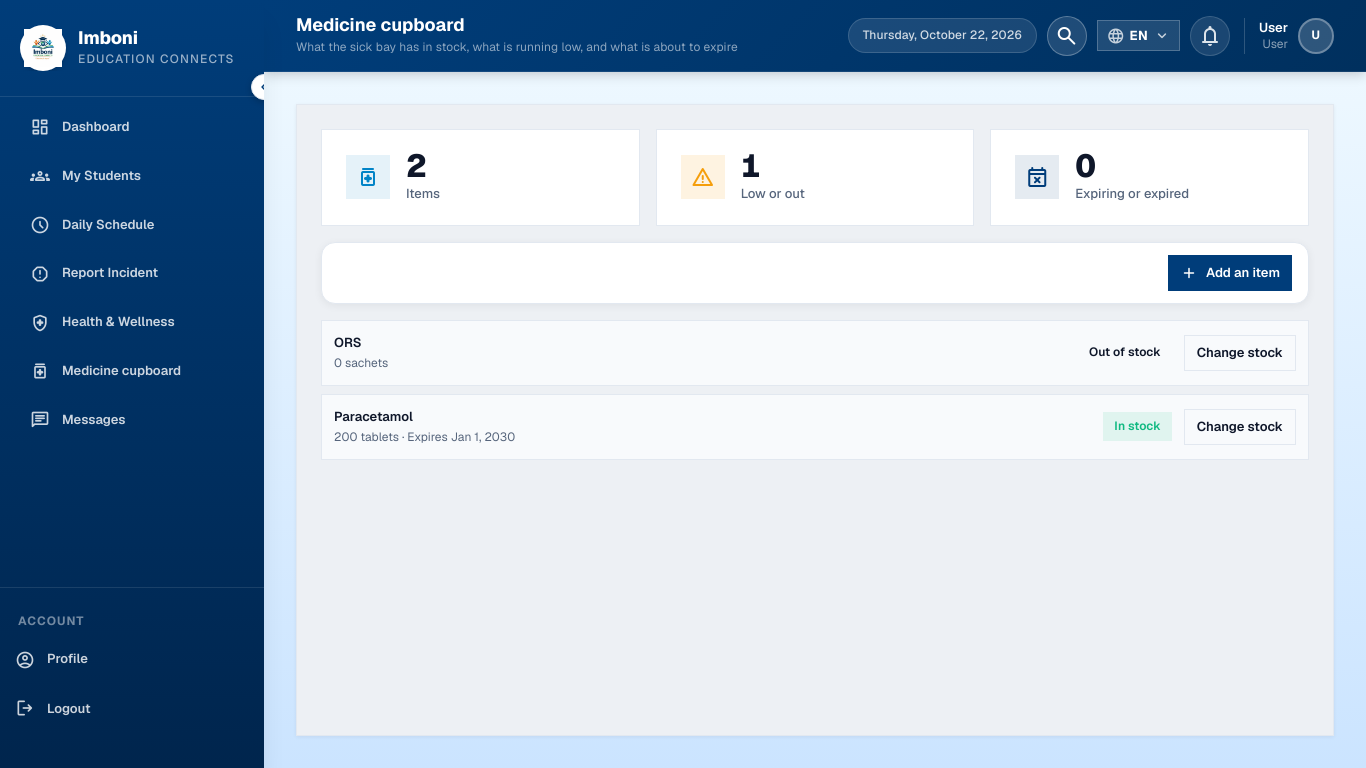
Test: MatronPharmacy › shows why the server refused a movement
Click the button "Change stock" in the row of "ORS" at (1240, 353), box [1184,335,1296,371]
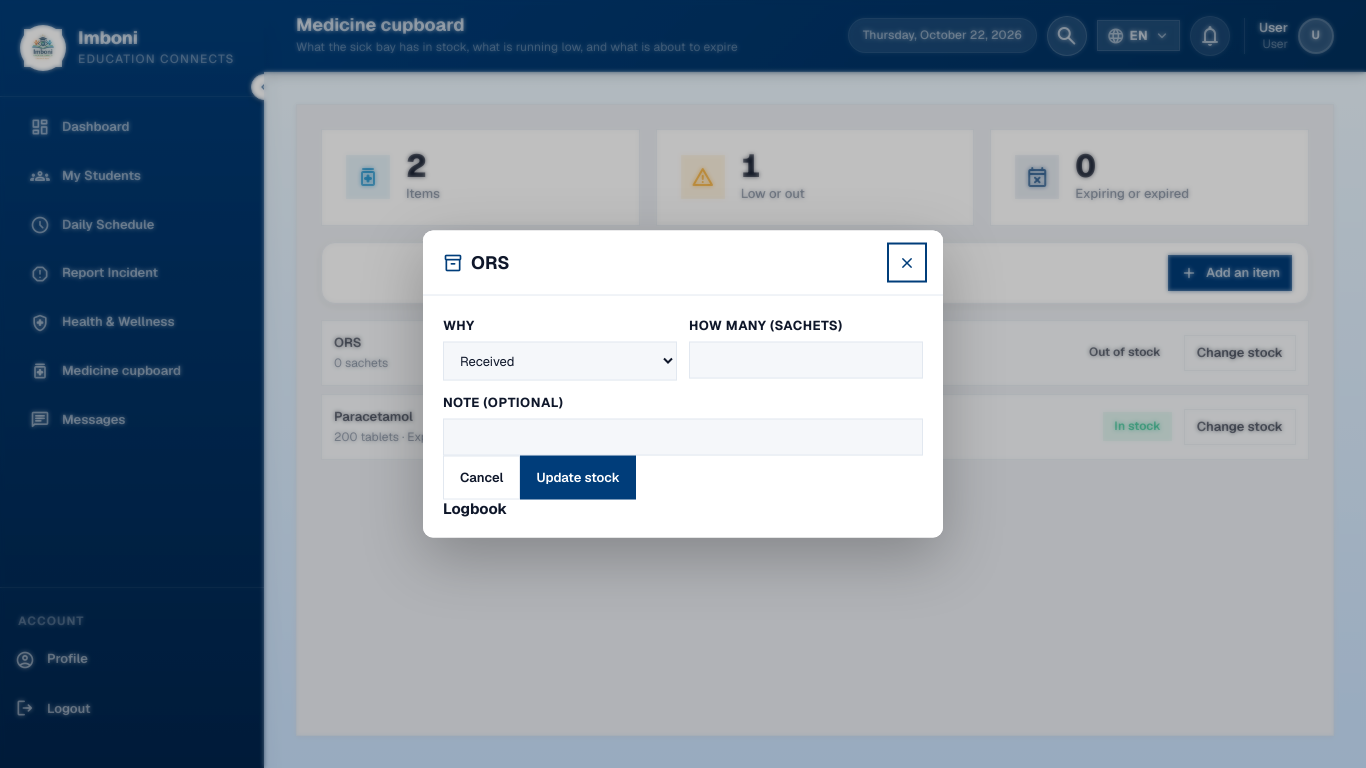
Type "5" into the number field labelled "How many (sachets)" at (806, 360), box [689,342,923,378]
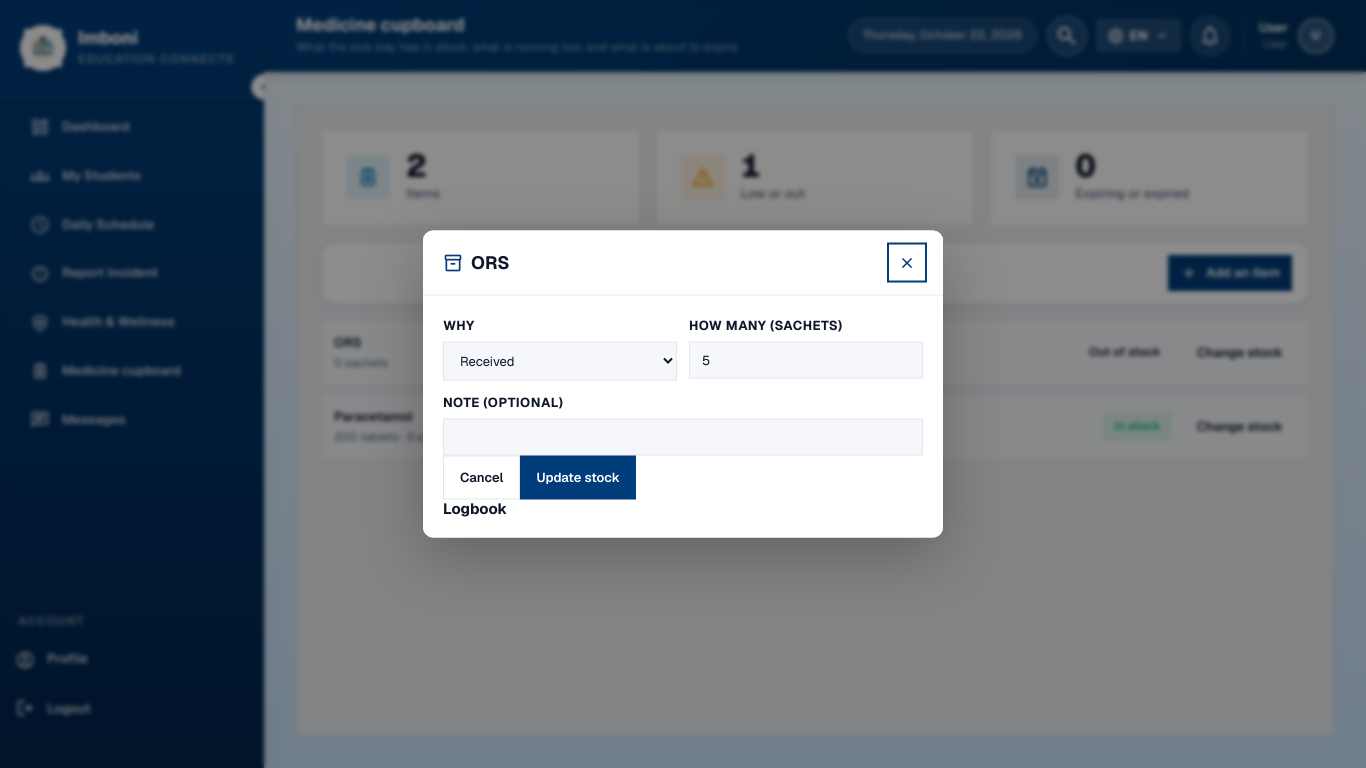
Click the button "Update stock" at (578, 478), box [520,456,636,500]
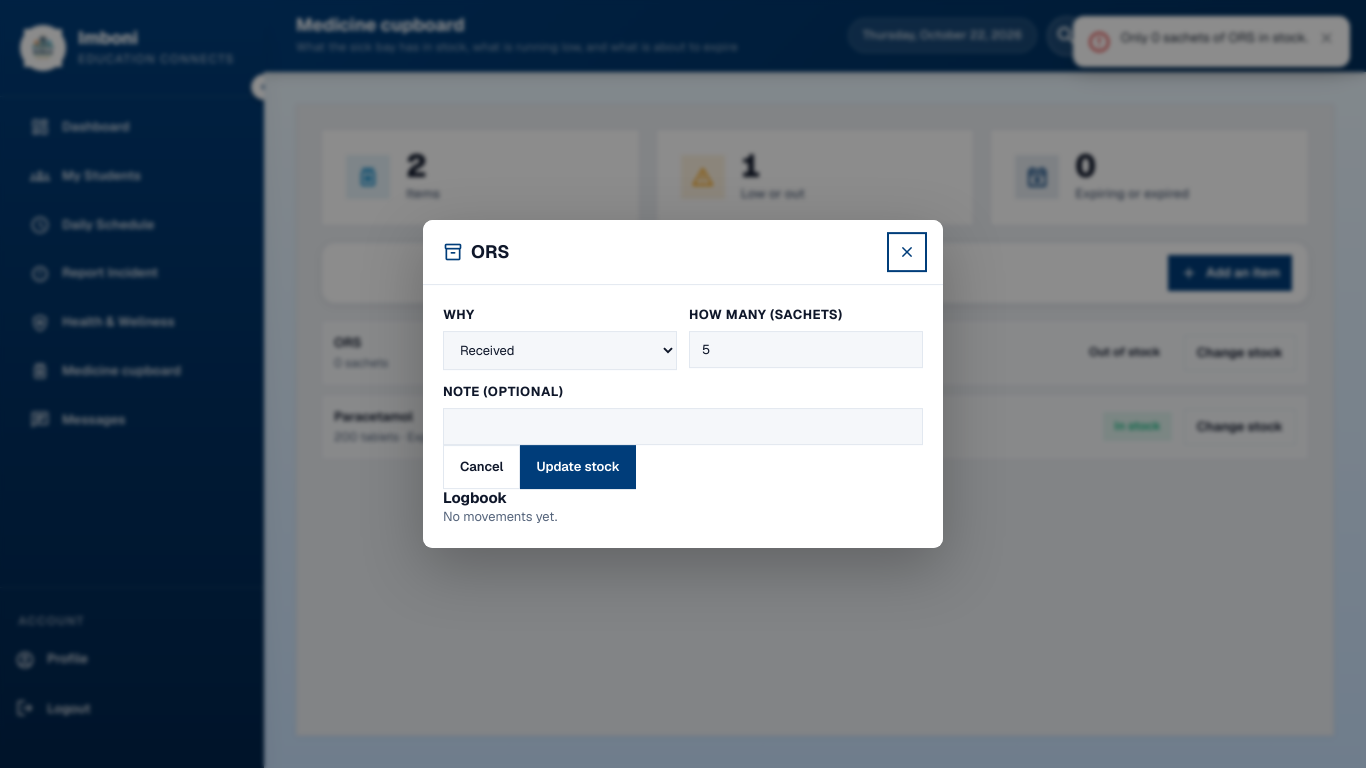
Expected: the text "Only 0 sachets of ORS in stock." is shown, [1121,29,1308,47]
